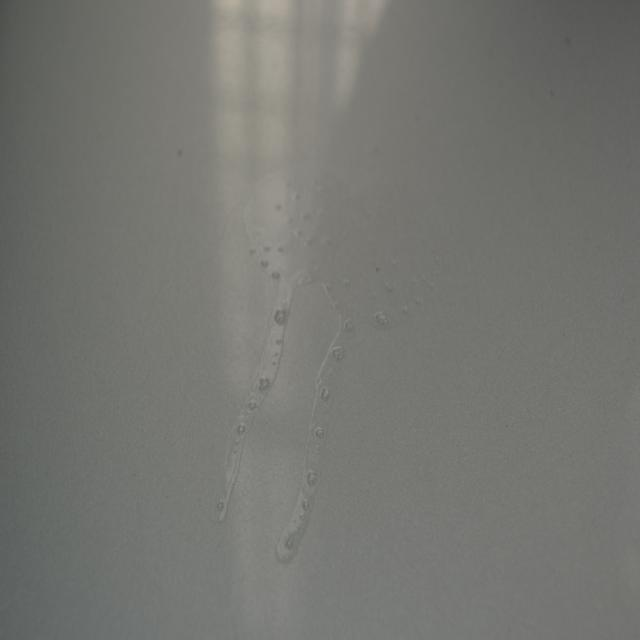dirt: (176, 145, 184, 158)
runs: (210, 169, 439, 572)
